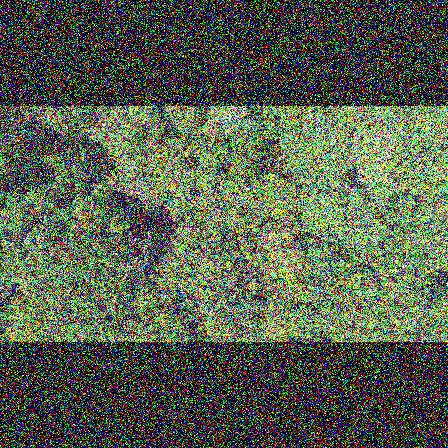Dead: (118, 234, 157, 287)
